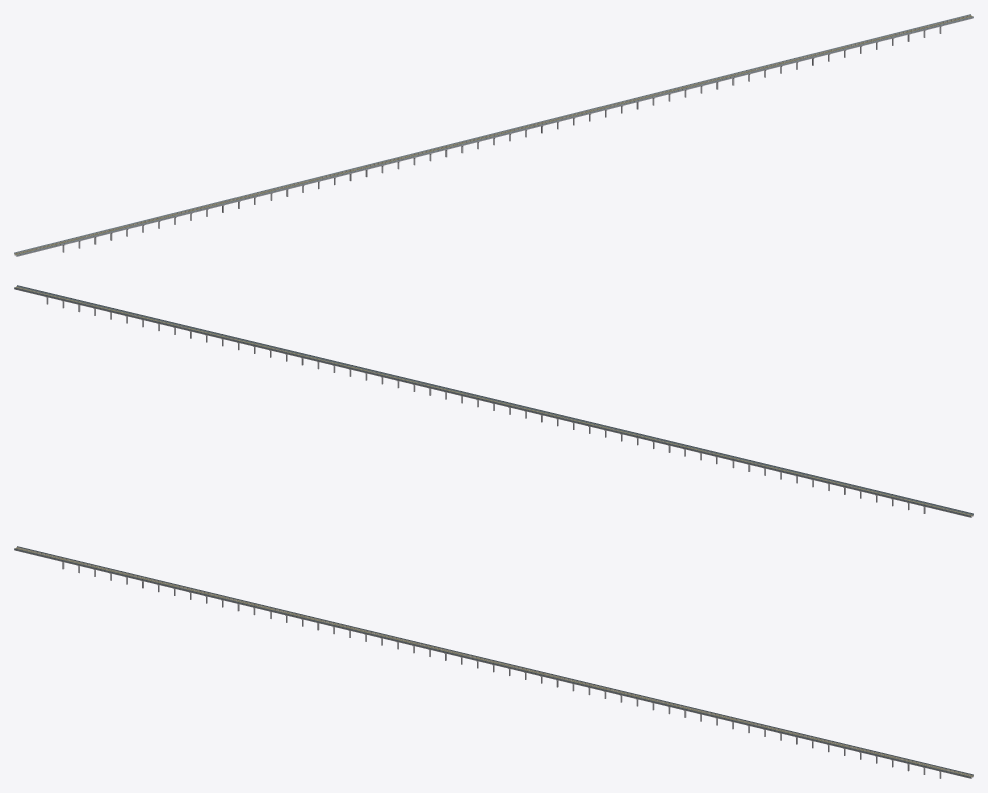
The picture shows the model from 3 angles, top to bottom: view 1: azimuth 30°, elevation 25°; view 2: azimuth 150°, elevation 25°; view 3: azimuth 330°, elevation 25°; orthographic projection.
Parts seen in each view (by area): view 1: HN1261___Phung_Khoang_Metro_Station___1; view 2: HN1261___Phung_Khoang_Metro_Station___1; view 3: HN1261___Phung_Khoang_Metro_Station___1.
Part boxes in pixels (bbox=[...]): HN1261___Phung_Khoang_Metro_Station___1: bbox=[14, 14, 973, 256]; HN1261___Phung_Khoang_Metro_Station___1: bbox=[14, 285, 973, 517]; HN1261___Phung_Khoang_Metro_Station___1: bbox=[14, 546, 973, 778].
Size of the model in its own units: 1444 by 15.17 by 21.48.
1 material, 1 textured.
